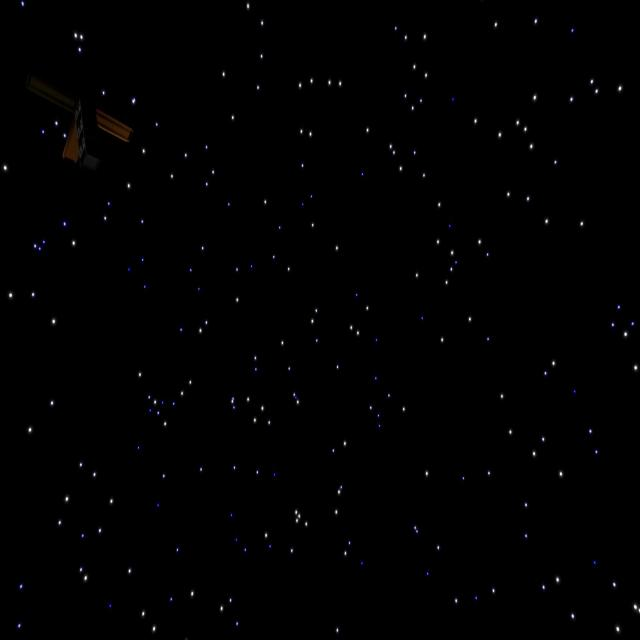satellite: (21, 69, 142, 176)
